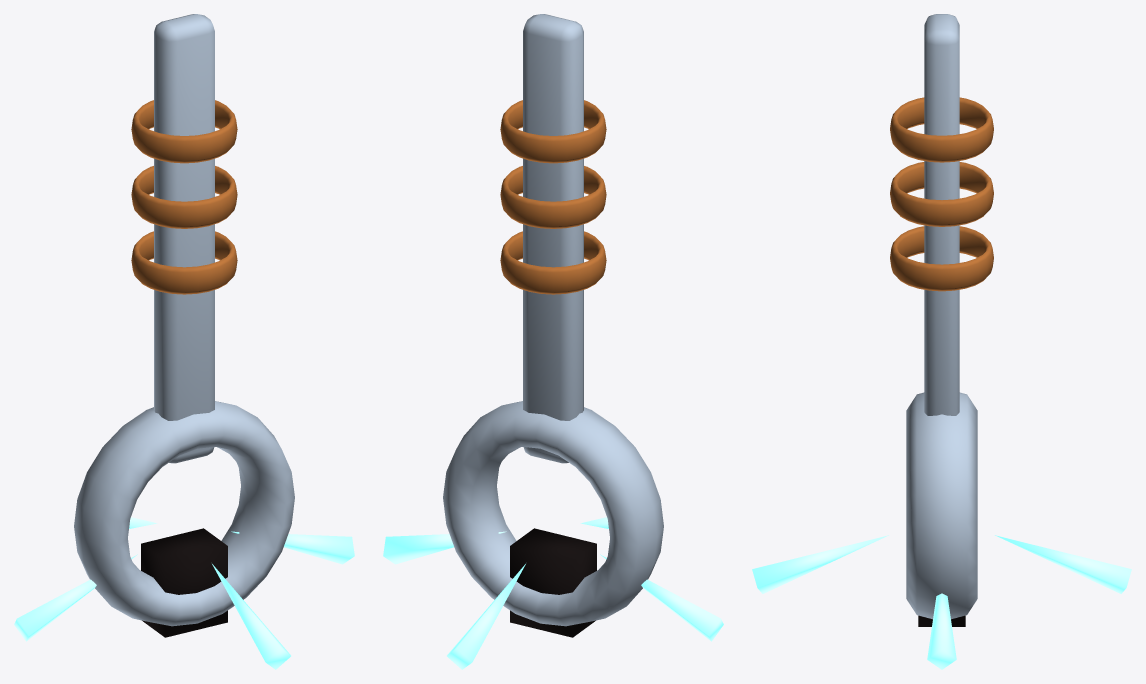
The model's file is weapon_mecanico_rara.glb.
The picture shows the model from 3 angles, left to right: view 1: azimuth 30°, elevation 25°; view 2: azimuth 150°, elevation 25°; view 3: azimuth 270°, elevation 25°; orthographic projection.
Visible parts, largest first — view 1: weapon_mecanico_rara; view 2: weapon_mecanico_rara; view 3: weapon_mecanico_rara.
Boxes of the visible parts, left/top/right/bottom form: weapon_mecanico_rara: left=14, top=14, right=354, bottom=669; weapon_mecanico_rara: left=383, top=14, right=723, bottom=669; weapon_mecanico_rara: left=752, top=14, right=1131, bottom=669.
Bounding box in the file's own units: 0.6418 × 1.1 × 0.6418.
